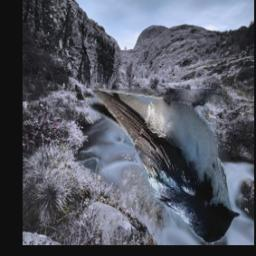Swallow: (90, 89, 241, 242)
